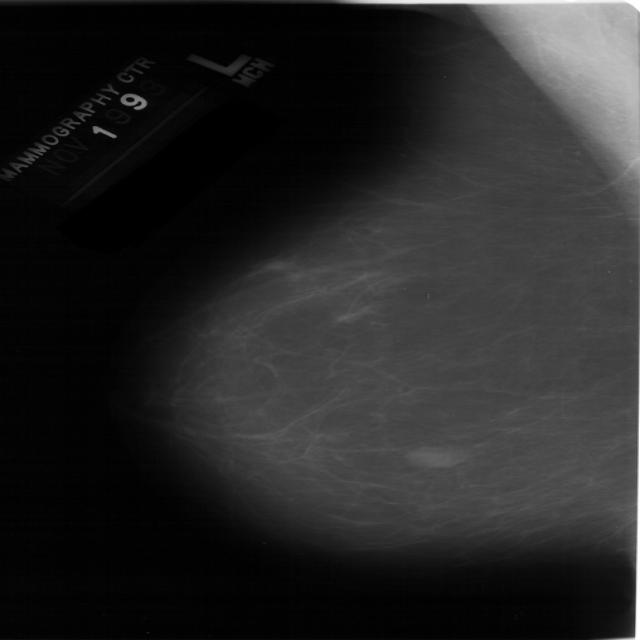tumour: (404, 444, 468, 467)
